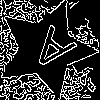A: (20, 24, 78, 81)
